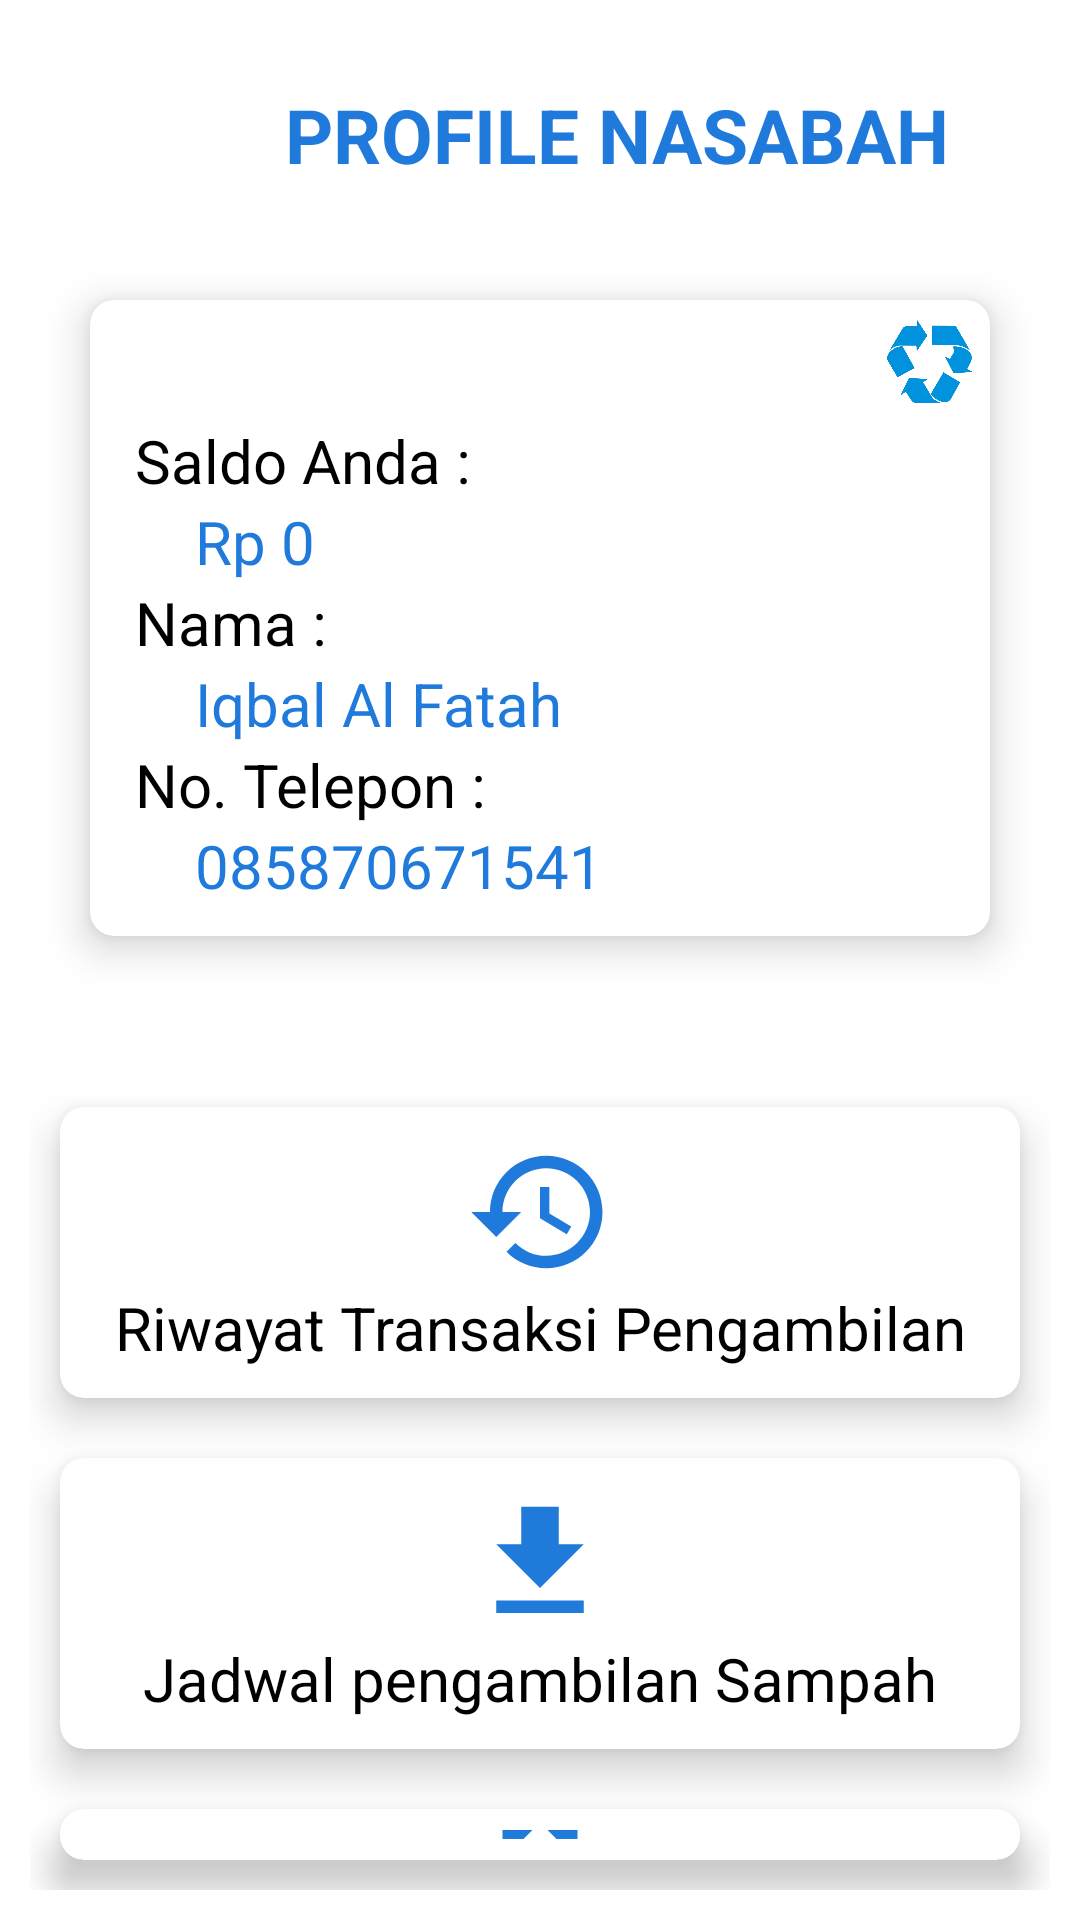

Locate icon controls on the screen. Image size 1080px x 1920px, boxes as (x1, y1, x2, y2).
get app: (496, 1506, 584, 1613)
history: (471, 1155, 603, 1269)
